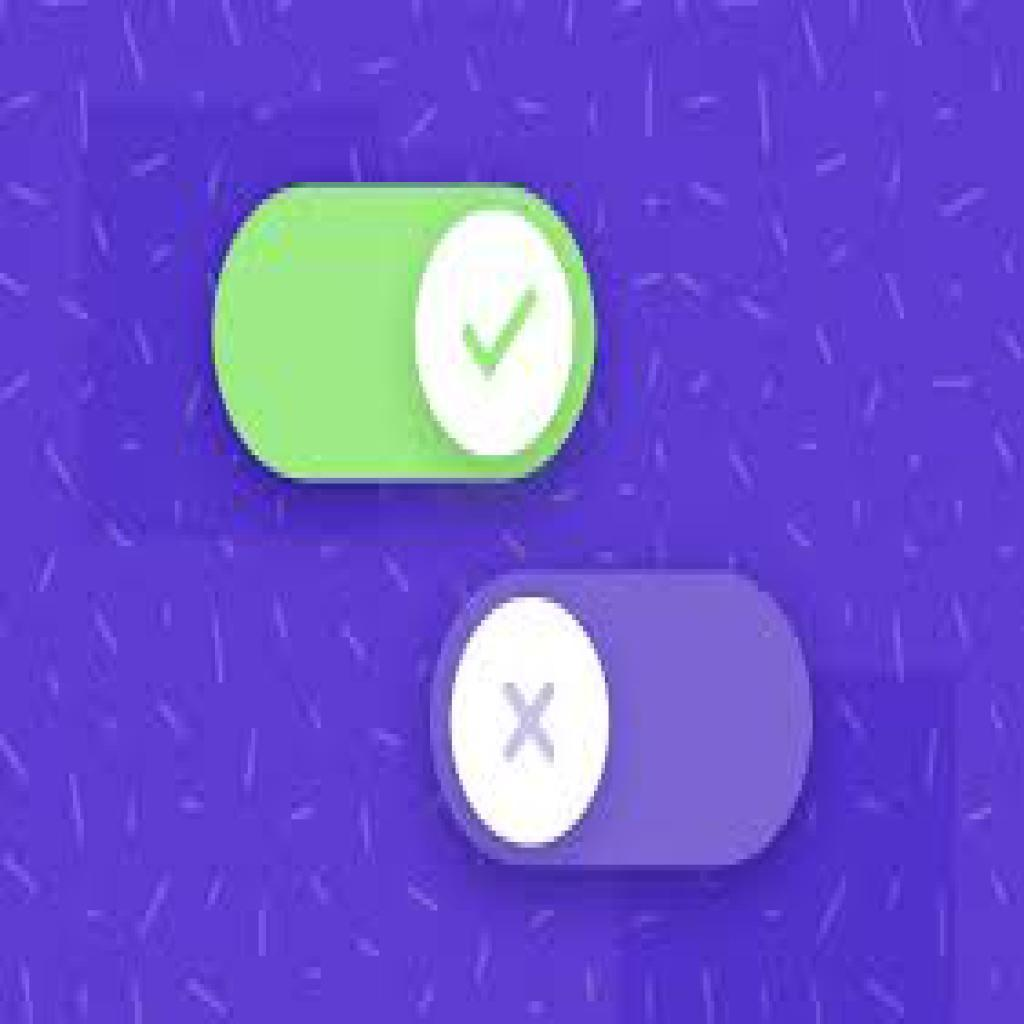switch: (213, 183, 597, 485), (427, 569, 813, 868)
